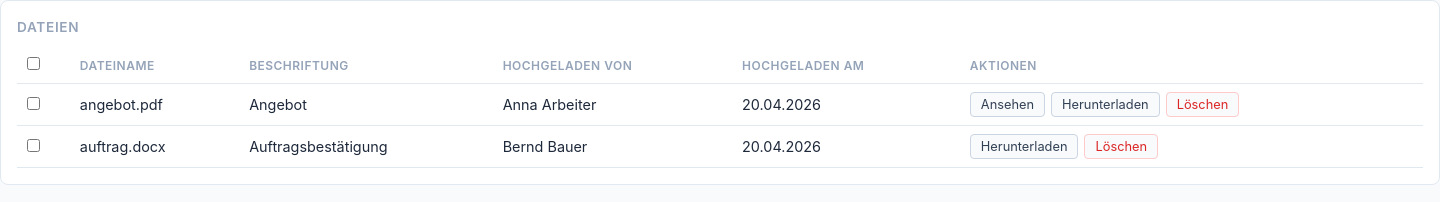
Test: BinaryList — "Datei fehlt" on download 404 (AC-224 binary side) › flips the row to "Datei fehlt" and disables the download when the SW signals object-absent
The width and height of the screenshot is (1440, 202).
Step 1. Click the button with test id "attachment-download" in the row of "angebot.pdf" → (1105, 105), box [1051, 92, 1160, 117]
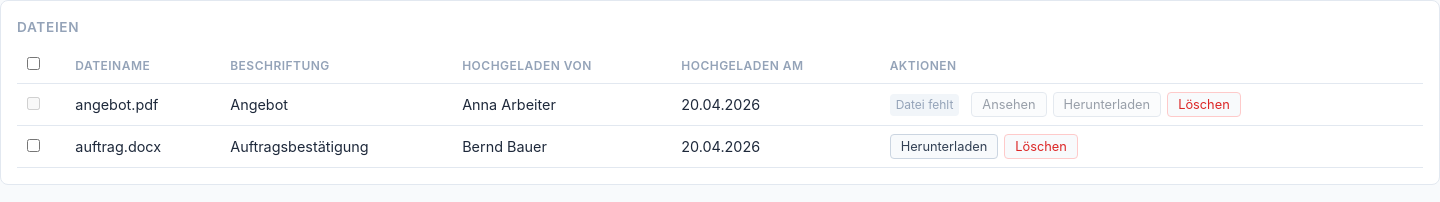
Result: the text "Datei fehlt" is shown at [890, 94, 959, 116]
Result: the button with test id "attachment-download" in the row of "Datei fehlt" is disabled at [1052, 92, 1161, 117]
